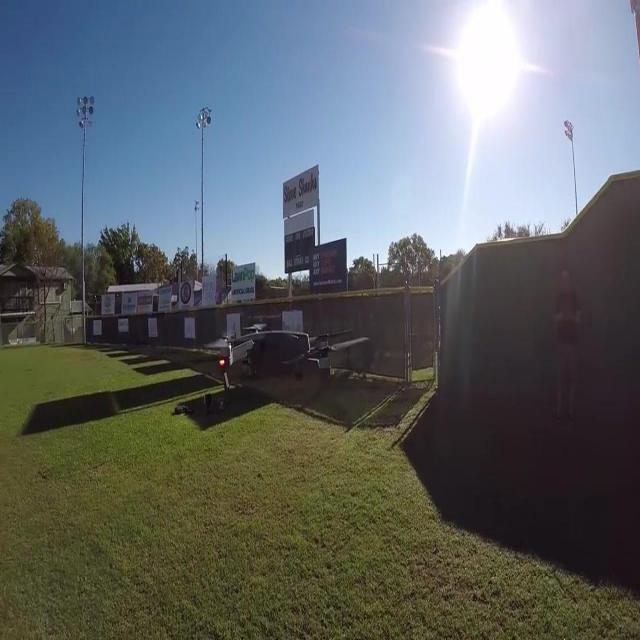UAV: (204, 324, 370, 381)
